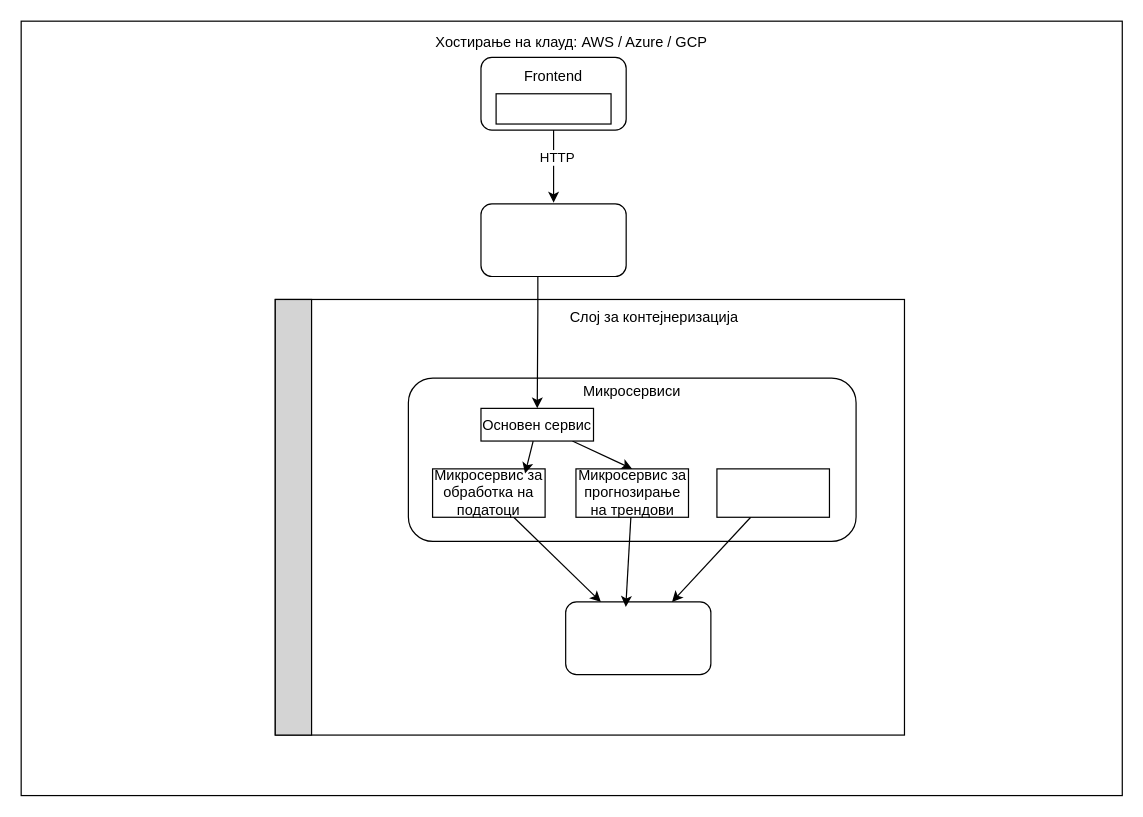
The diagram is 1143 pixels wide and 817 high, and some of its shapes have lost their labels. Each missing label, with the centre of its shape:
"API Gateway" goes at [553,239].
"React" goes at [553,108].
"База на податоци" goes at [637,638].
"Микросервис за собирање податоци" goes at [772,492].
